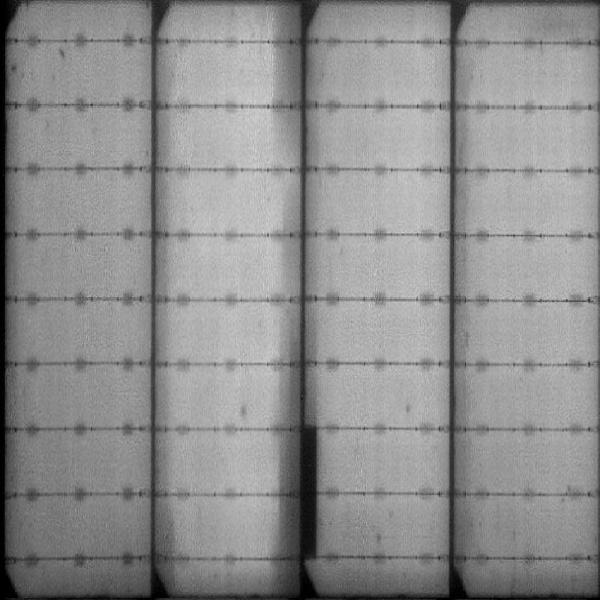black_border: (294, 419, 321, 561)
